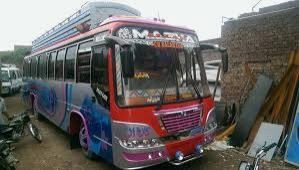bus: (26, 14, 222, 166)
